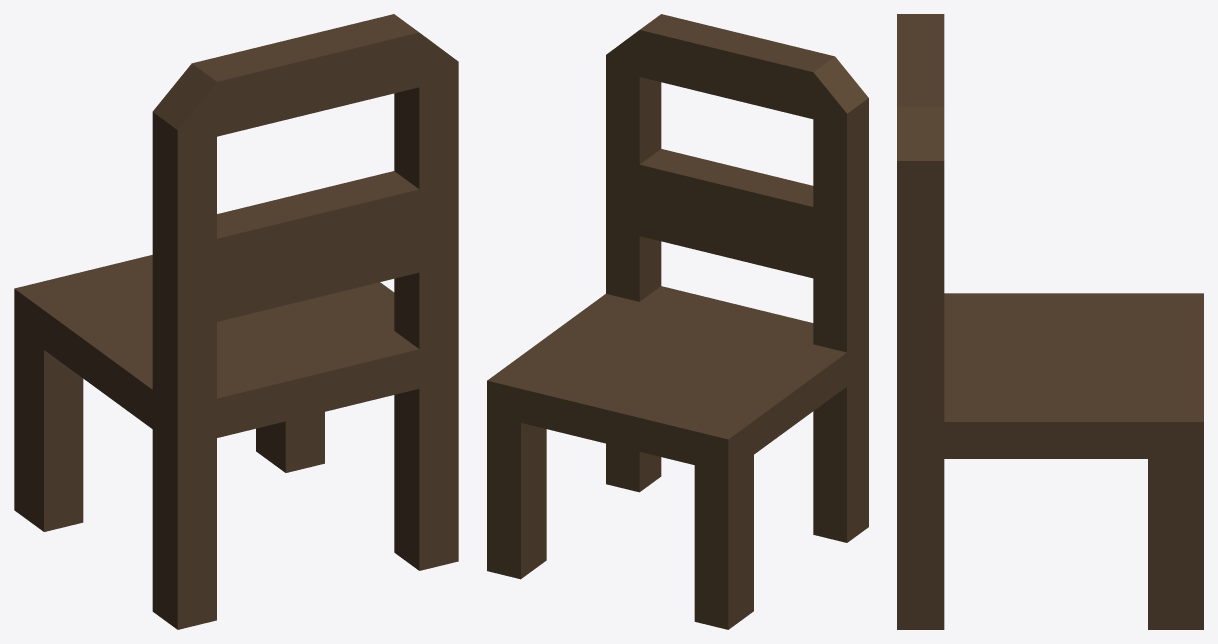
The model's file is Chair.fbx.
The picture shows the model from 3 angles, left to right: view 1: azimuth 30°, elevation 25°; view 2: azimuth 150°, elevation 25°; view 3: azimuth 270°, elevation 25°; orthographic projection. The views are drawn at different scales.
Parts seen in each view (by area): view 1: Cube; view 2: Cube; view 3: Cube.
Part boxes in pixels (x1,y1,x2,y2): Cube: (14, 14, 458, 629); Cube: (487, 14, 868, 629); Cube: (897, 14, 1203, 629).
Bounding box in the file's own units: 61.91 × 113 × 62.42.
